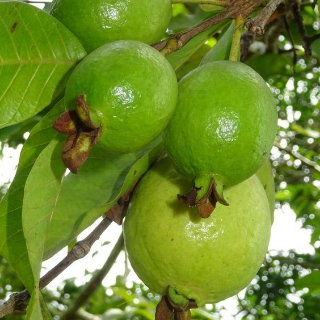oi: (53, 38, 174, 168), (171, 60, 276, 209)
